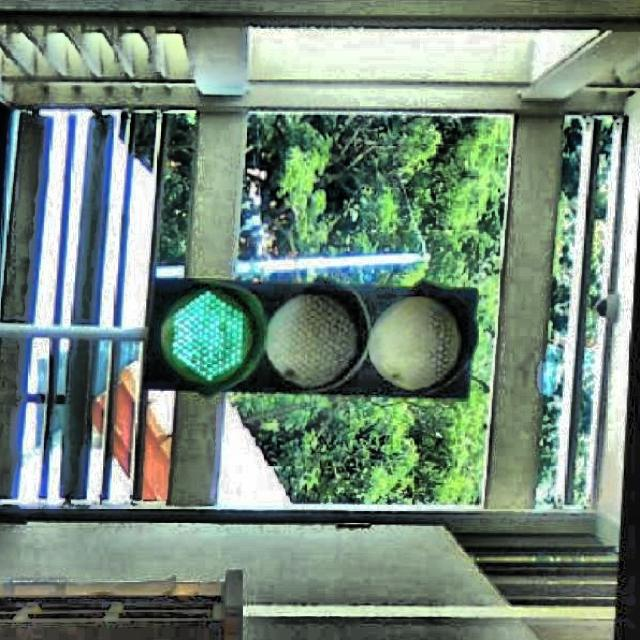green: (135, 277, 484, 397)
